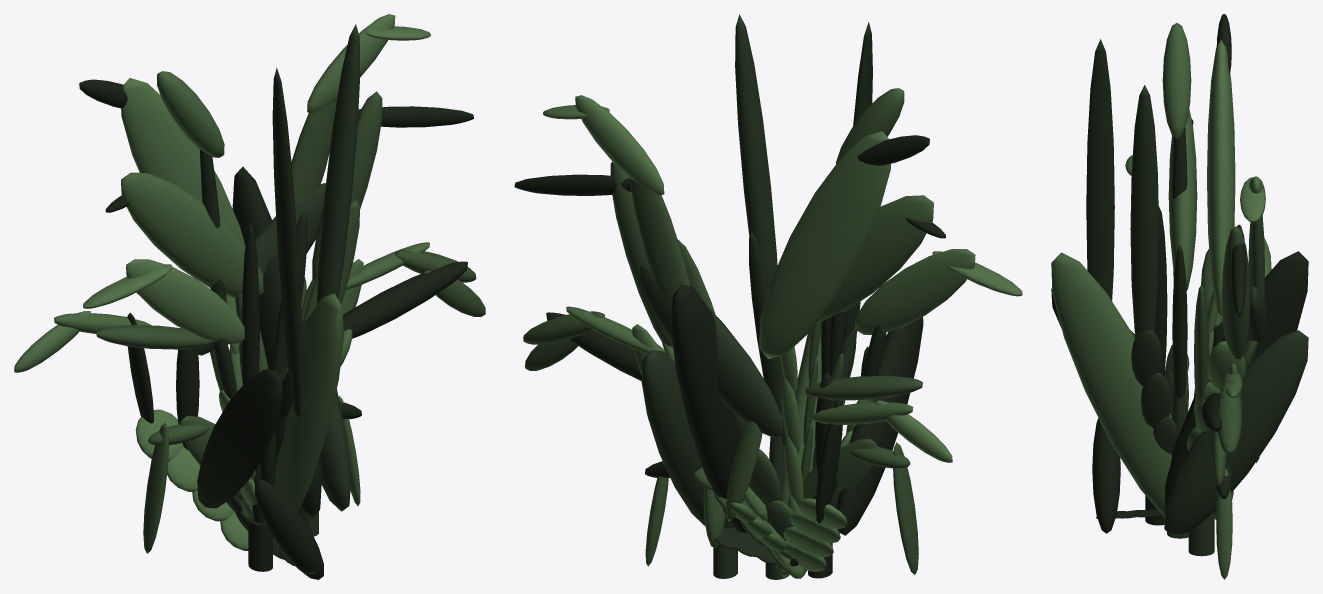
File: CMU3DRMCBushJungle2.glb
3 views of the same model, side by side, from view 1: azimuth 30°, elevation 25°; view 2: azimuth 150°, elevation 25°; view 3: azimuth 270°, elevation 25° (orthographic). The views are drawn at different scales.
Visible parts, largest first — view 1: continuous leaf 7 curve 0, inner source foliage 0, inner source foliage 2, continuous leaf 1 curve 0, continuous leaf 3 curve 0, continuous leaf 0 curve 0, continuous leaf 6 curve 1, inner source foliage 1, continuous leaf 11 curve 0, continuous leaf 15 curve 0, continuous leaf 2 curve 1, continuous leaf 4 curve 0 (+29 smaller); view 2: continuous leaf 3 curve 0, inner source foliage 1, continuous leaf 1 curve 0, inner source foliage 3, continuous leaf 7 curve 0, continuous leaf 6 curve 1, continuous leaf 14 curve 1, inner source foliage 2, continuous leaf 4 curve 0, continuous leaf 4 curve 1, continuous leaf 5 curve 0, continuous leaf 8 curve 1 (+32 smaller); view 3: inner source foliage 0, inner source foliage 3, continuous leaf 0 curve 0, continuous leaf 1 curve 0, continuous leaf 3 curve 0, inner source foliage 1, continuous leaf 7 curve 0, continuous leaf 2 curve 1, continuous leaf 15 curve 0, continuous leaf 5 curve 0, rooted stalk 1 section 1, rooted stalk 2 section 1 (+19 smaller).
Boxes of the visible parts, x1,y1,x2,y2 form: continuous leaf 7 curve 0: [121, 172, 263, 298]; inner source foliage 0: [273, 293, 343, 542]; inner source foliage 2: [197, 369, 283, 508]; continuous leaf 1 curve 0: [316, 24, 360, 304]; continuous leaf 3 curve 0: [121, 78, 244, 243]; continuous leaf 0 curve 0: [272, 67, 302, 418]; continuous leaf 6 curve 1: [126, 259, 244, 344]; inner source foliage 1: [232, 166, 322, 518]; continuous leaf 11 curve 0: [343, 261, 467, 338]; continuous leaf 15 curve 0: [255, 479, 323, 579]; continuous leaf 2 curve 1: [157, 71, 224, 157]; continuous leaf 4 curve 0: [291, 100, 336, 206]; continuous leaf 3 curve 0: [759, 131, 890, 359]; inner source foliage 1: [671, 284, 746, 532]; continuous leaf 1 curve 0: [735, 14, 777, 286]; inner source foliage 3: [641, 350, 705, 526]; continuous leaf 7 curve 0: [817, 195, 933, 322]; continuous leaf 6 curve 1: [855, 249, 975, 334]; continuous leaf 14 curve 1: [640, 264, 783, 437]; inner source foliage 2: [836, 317, 923, 535]; continuous leaf 4 curve 0: [629, 178, 690, 302]; continuous leaf 4 curve 1: [575, 95, 664, 195]; continuous leaf 5 curve 0: [610, 162, 673, 347]; continuous leaf 8 curve 1: [805, 375, 922, 400]; inner source foliage 0: [1051, 252, 1172, 517]; inner source foliage 3: [1164, 330, 1308, 536]; continuous leaf 0 curve 0: [1086, 39, 1114, 300]; continuous leaf 1 curve 0: [1130, 85, 1158, 336]; continuous leaf 3 curve 0: [1207, 40, 1235, 317]; inner source foliage 1: [1164, 251, 1308, 513]; continuous leaf 7 curve 0: [1168, 109, 1197, 290]; continuous leaf 2 curve 1: [1162, 23, 1191, 138]; continuous leaf 15 curve 0: [1092, 418, 1120, 533]; continuous leaf 5 curve 0: [1222, 226, 1250, 359]; rooted stalk 1 section 1: [1172, 245, 1187, 397]; rooted stalk 2 section 1: [1194, 284, 1209, 399].
Bounding box in the file's own units: 1.4 × 1.58 × 0.7742.
